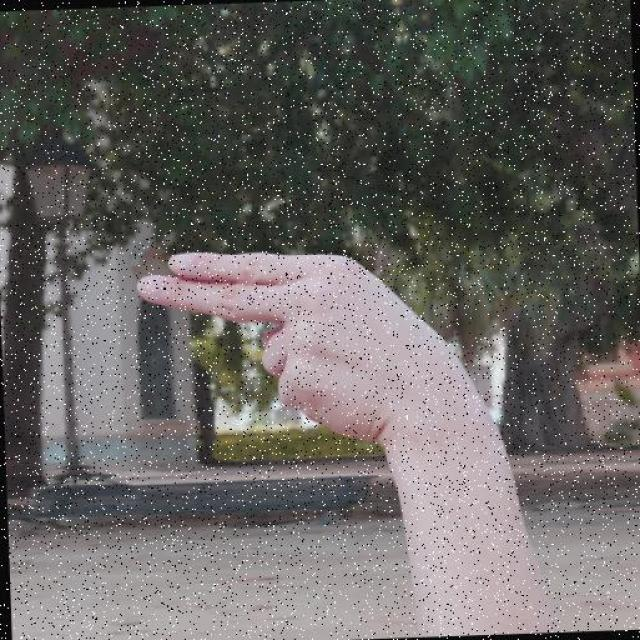H: (128, 238, 506, 457)
